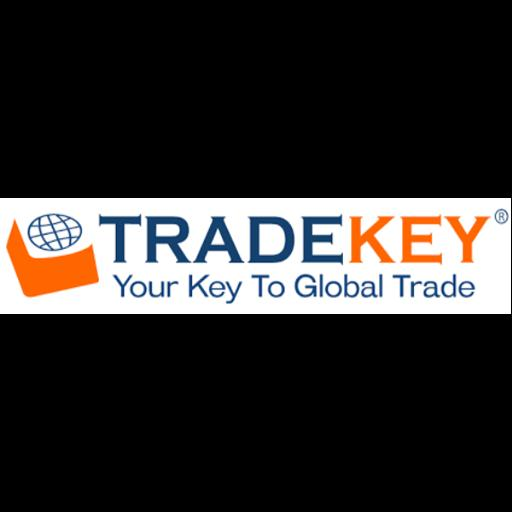TradeKey: (0, 198, 511, 314)
